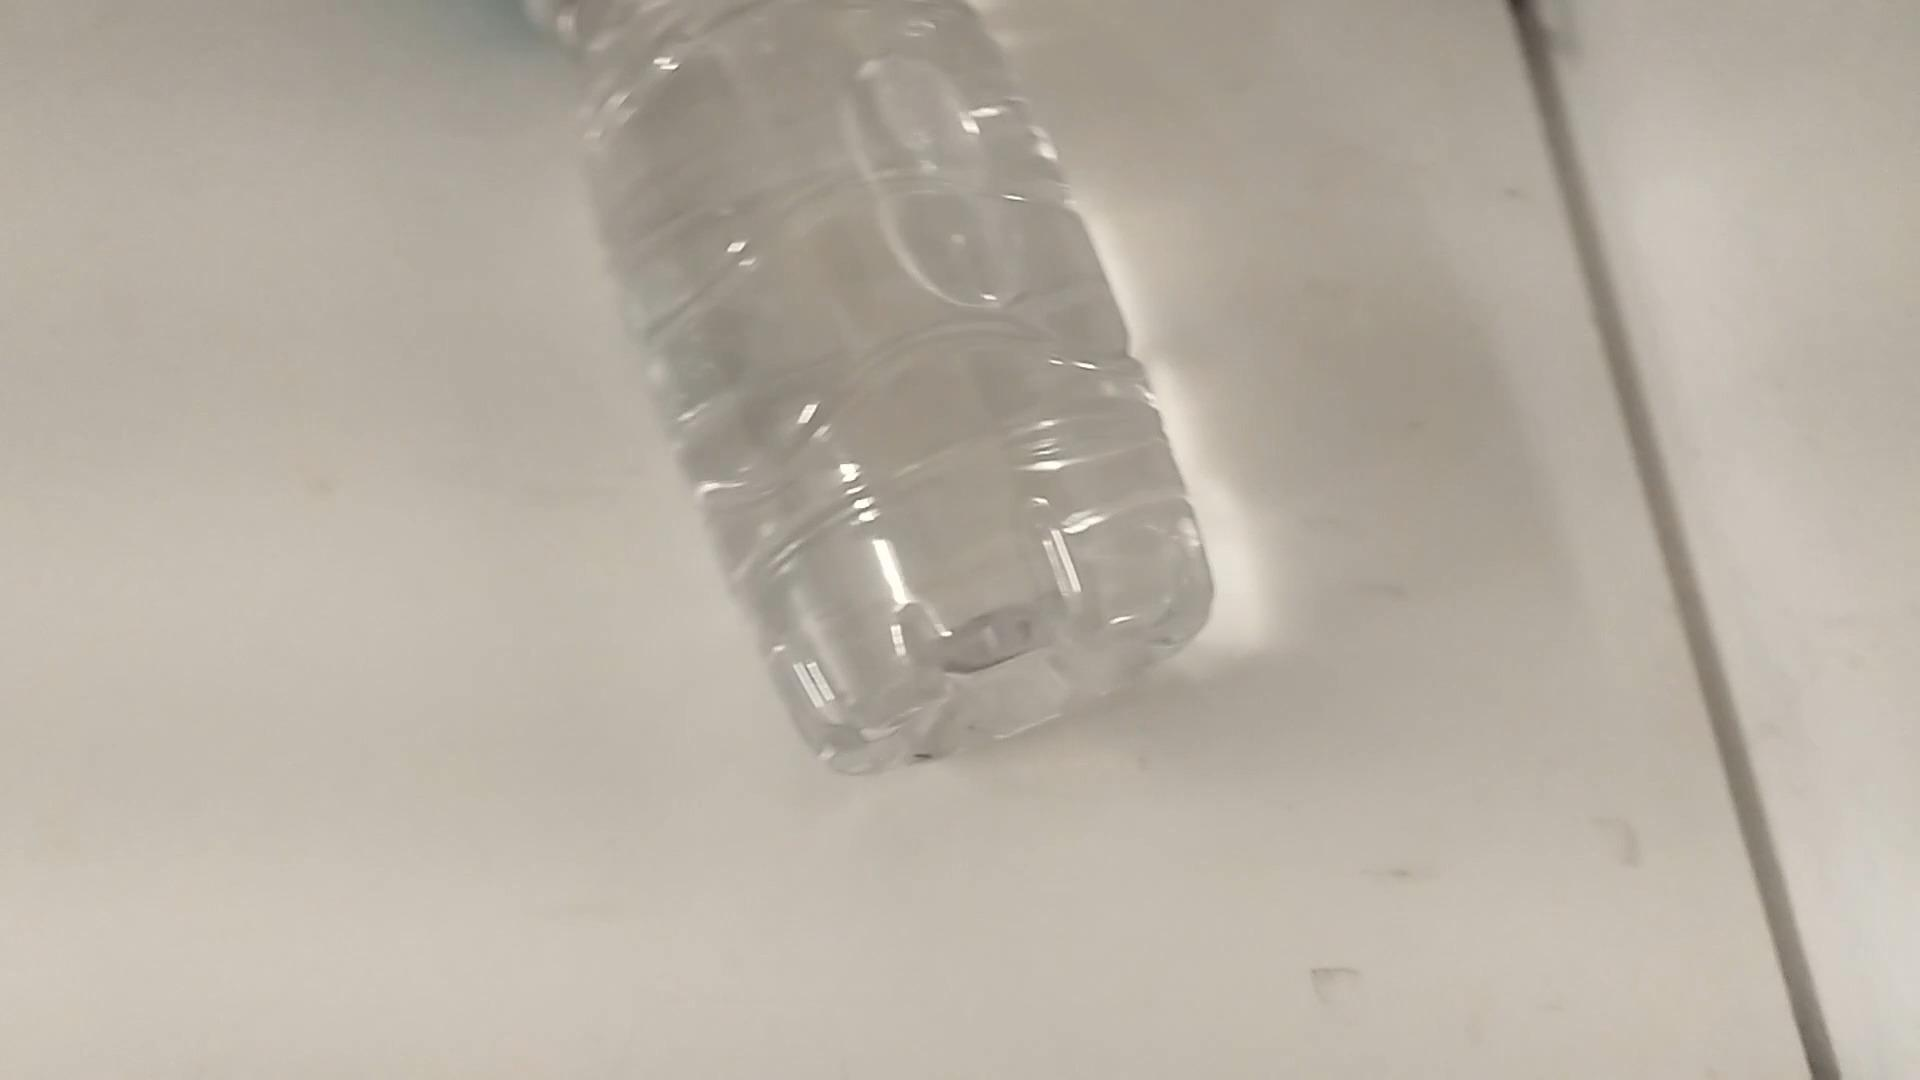agua: (431, 0, 1204, 773)
